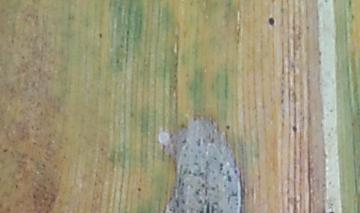tarspot: (266, 16, 275, 26), (291, 124, 298, 132), (136, 185, 142, 192), (1, 147, 8, 153), (225, 124, 231, 130), (98, 32, 103, 39)
